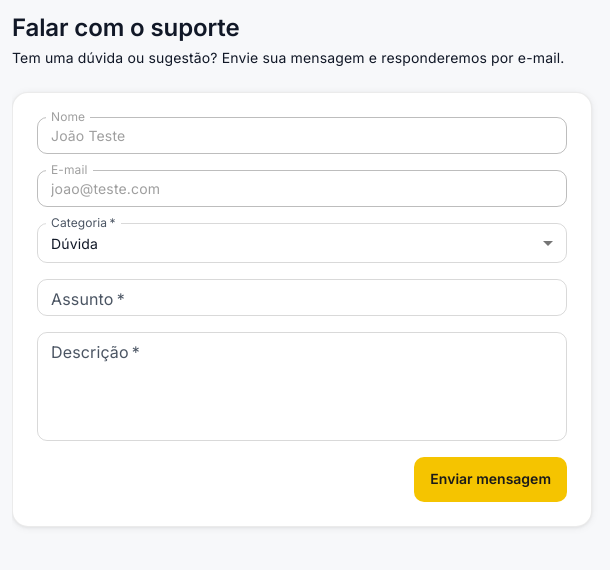
Test case: SuporteForm › não envia e mostra erro de validação quando assunto é curto
Type "ab" into the field labelled "Assunto *". click: x=302, y=298
box: [37,279,567,316]
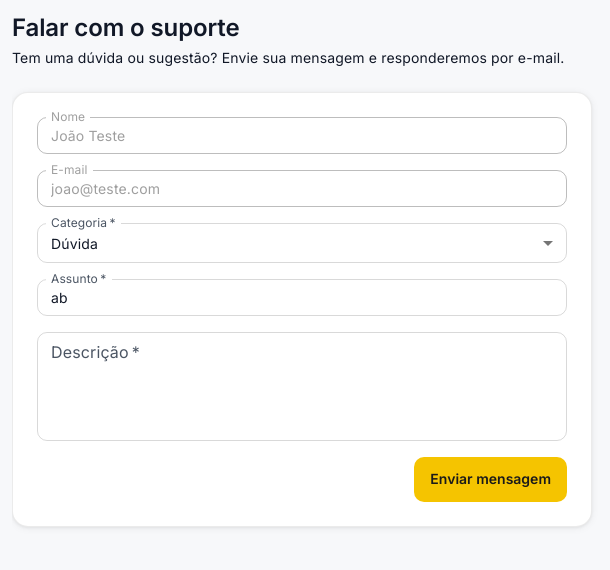
Type "Descrição longa o suficiente para passar." into the text box labelled "Descrição *". click: x=302, y=387
box: [51,341,553,433]
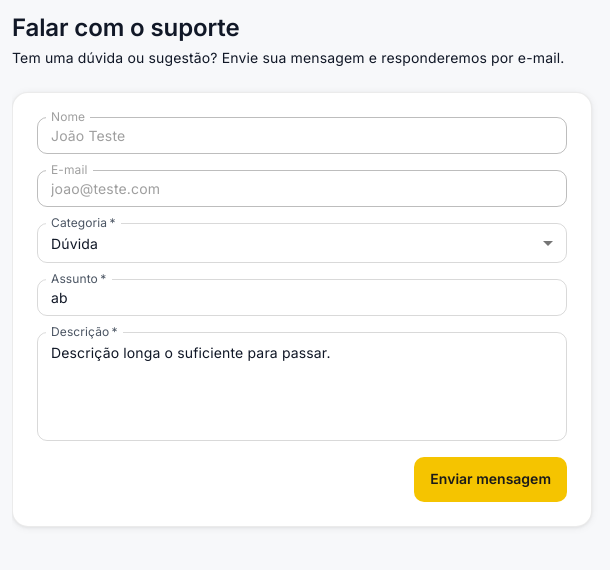
Click the button "Enviar mensagem". click: x=491, y=480
box: [414,457,567,502]
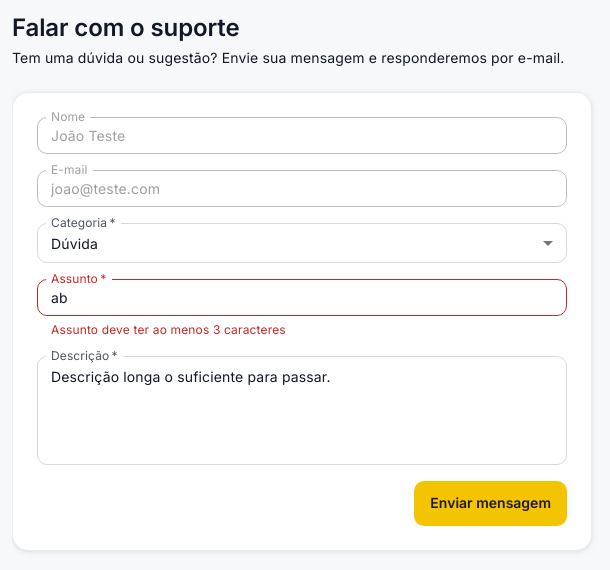
Expected: the text "Assunto deve ter ao menos 3 caracteres" is shown, [51,322,286,337]
